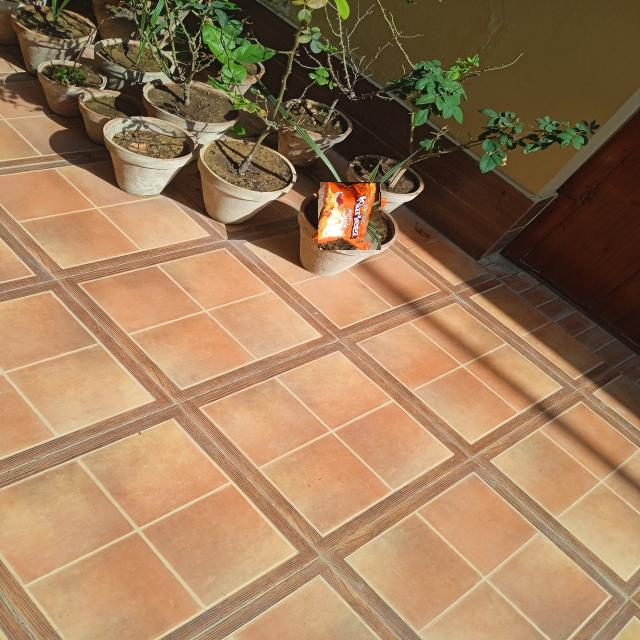Plastic: (318, 183, 382, 249)
